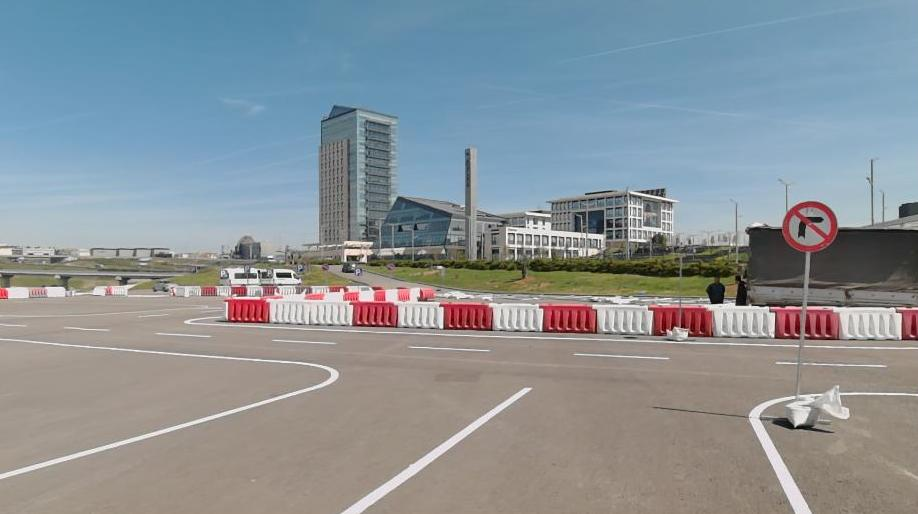nesne: (0, 315, 916, 513), (0, 318, 577, 513), (345, 346, 916, 509), (0, 334, 340, 482), (223, 294, 916, 338), (181, 313, 915, 348), (339, 384, 531, 513), (746, 386, 913, 511), (745, 226, 917, 305), (224, 296, 353, 325), (780, 201, 837, 253), (784, 389, 848, 426), (269, 299, 351, 325), (772, 305, 839, 336), (177, 284, 347, 296), (839, 306, 900, 338), (709, 305, 774, 335), (653, 306, 711, 337), (594, 304, 653, 334), (543, 303, 597, 334), (490, 301, 545, 330), (444, 303, 492, 330), (397, 302, 442, 330), (350, 301, 397, 327), (224, 298, 269, 323), (407, 343, 491, 353), (570, 350, 669, 358), (776, 359, 886, 366), (2, 287, 65, 298), (259, 268, 299, 283), (899, 307, 916, 342), (705, 272, 726, 298), (730, 276, 747, 303), (271, 338, 335, 345), (665, 324, 688, 340), (154, 331, 210, 337), (62, 324, 107, 331), (176, 285, 199, 297), (8, 287, 29, 298), (322, 292, 343, 302), (420, 287, 436, 300), (310, 284, 330, 294), (45, 287, 64, 297), (276, 285, 295, 295), (385, 288, 398, 302), (28, 287, 45, 297), (359, 291, 375, 301), (398, 289, 411, 301), (263, 286, 277, 297), (329, 285, 348, 293), (231, 286, 245, 296), (303, 293, 323, 300), (200, 286, 215, 295), (92, 286, 105, 296), (247, 288, 261, 297), (372, 291, 386, 300), (295, 286, 310, 294), (1, 321, 25, 326), (217, 286, 230, 295), (411, 288, 420, 301), (112, 286, 126, 294), (343, 291, 357, 299), (295, 263, 305, 273), (320, 262, 330, 272), (218, 269, 228, 278), (385, 261, 395, 270), (242, 262, 250, 272), (354, 266, 362, 275), (265, 267, 272, 276), (0, 288, 7, 296), (105, 287, 111, 294)
